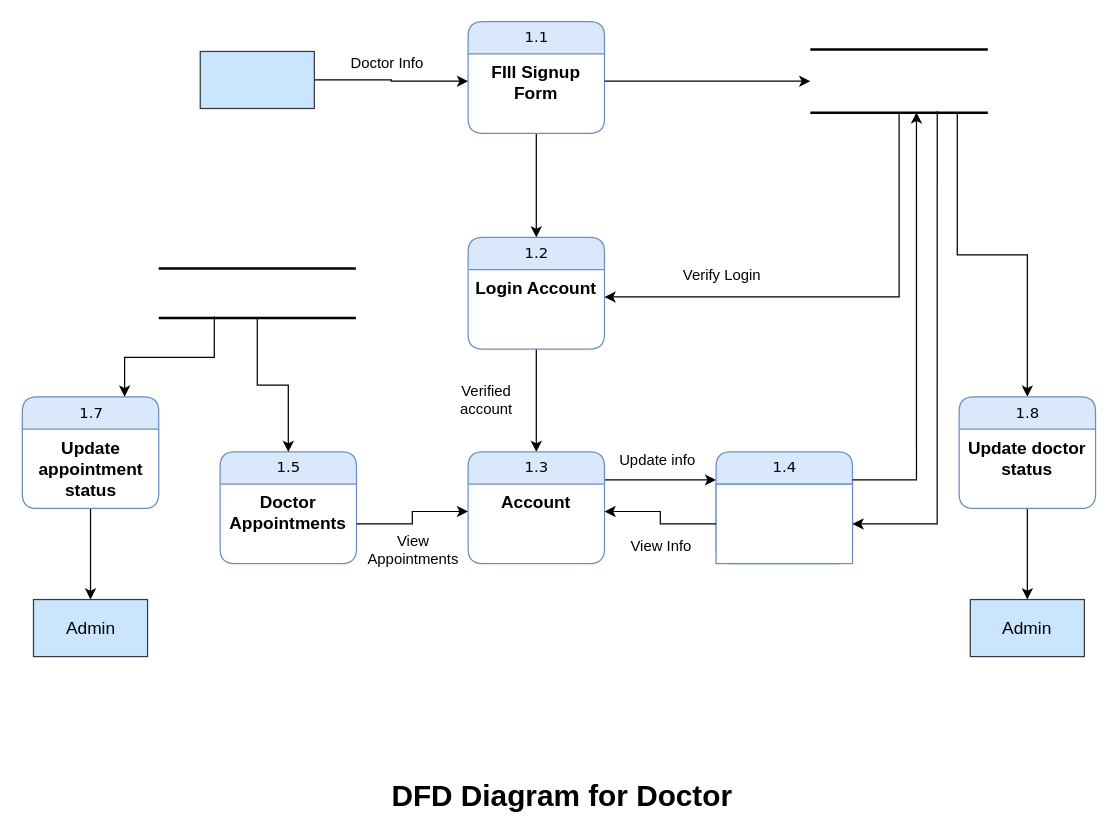
Image size: 1117x837. Some labels were removed from this diagram. The shapes that lost their labels are listed below. From the top down, each one's box as (x1, y1, x2, y2) in pixels, then its label:
(199, 50, 314, 108): Doctor
(808, 48, 988, 113): Doctor Record
(157, 267, 356, 319): Appointment Record
(715, 483, 852, 564): Edit/Update Account
